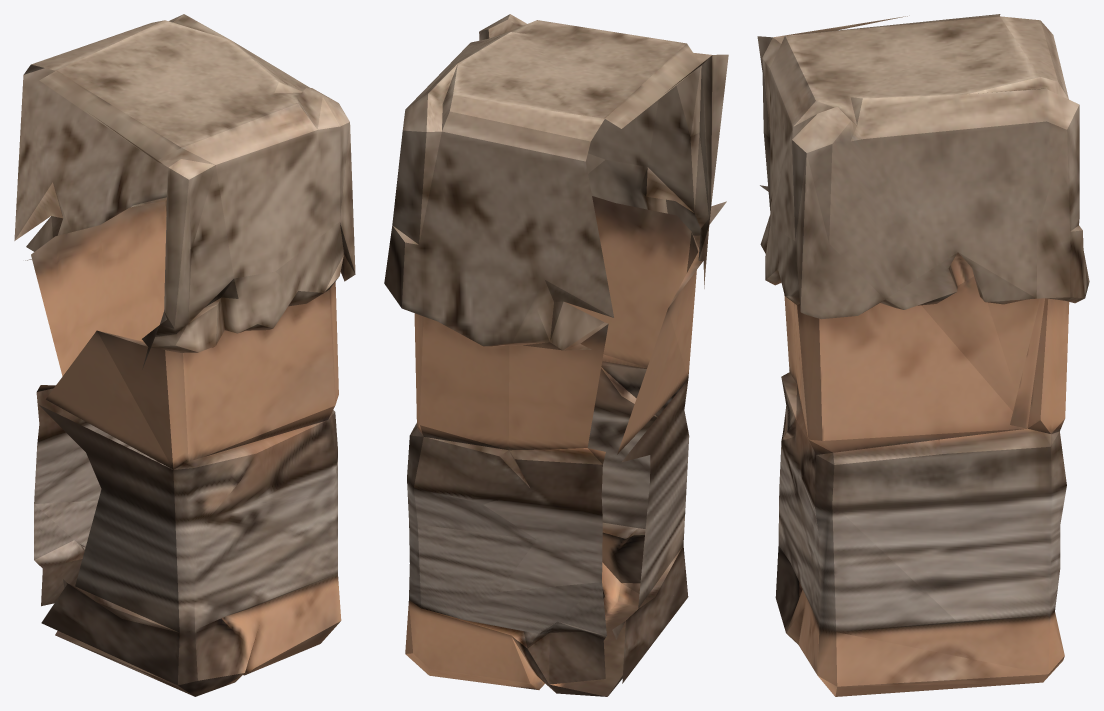
Rendered from patient_armPos.glb.
3 renders of one model, left to right at view 1: azimuth 30°, elevation 25°; view 2: azimuth 150°, elevation 25°; view 3: azimuth 270°, elevation 25°, orthographic. The views are drawn at different scales.
Visible parts, largest first — view 1: armPos; view 2: armPos; view 3: armPos.
Boxes of the visible parts, box(x1,y1,x2,y2) form: armPos: box(14, 14, 355, 696); armPos: box(384, 14, 728, 696); armPos: box(757, 14, 1089, 696).
Bounding box in the file's own units: 0.293 × 0.6729 × 0.3407.
1 material, 1 textured.
